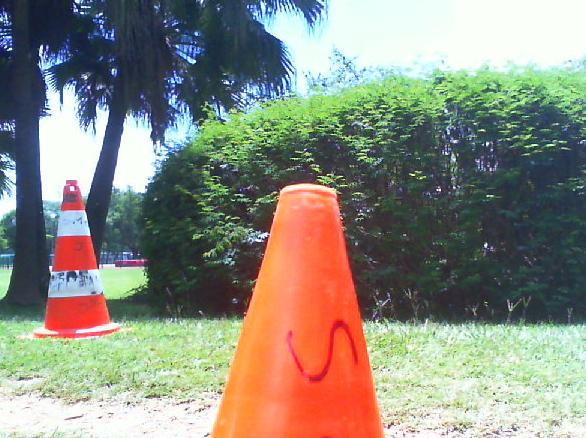0 cone: (207, 183, 389, 438), (32, 178, 125, 336)
